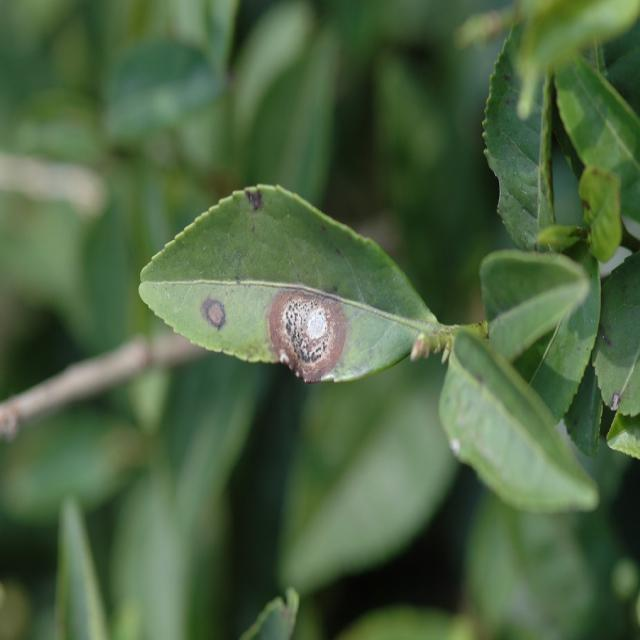Tea cloud leaf blight: (268, 285, 354, 380)
